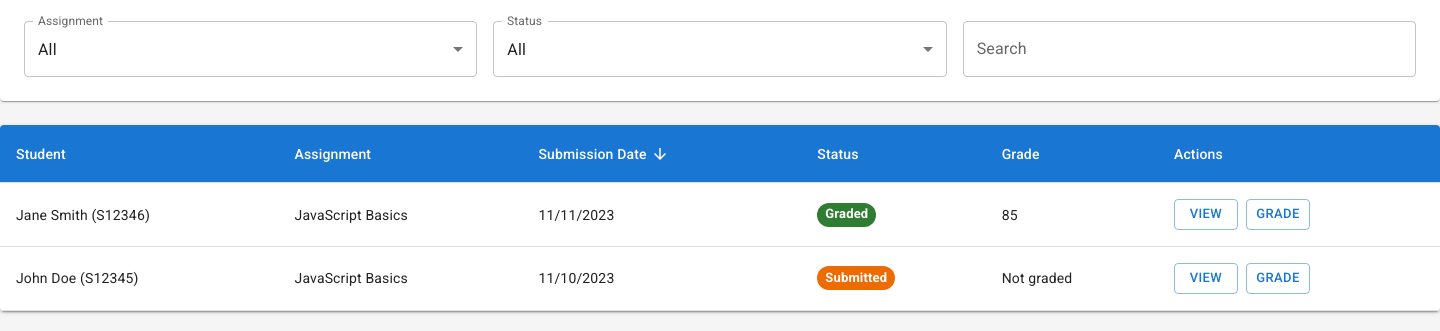
ReviewSubmissionsPage › filters submissions by status
This screenshot has width=1440, height=331.
Note: Open dropdown and select "Submitted"
Press the mouse on the dropdown named "Status" at (517, 49), box 507,40 -> 526,58
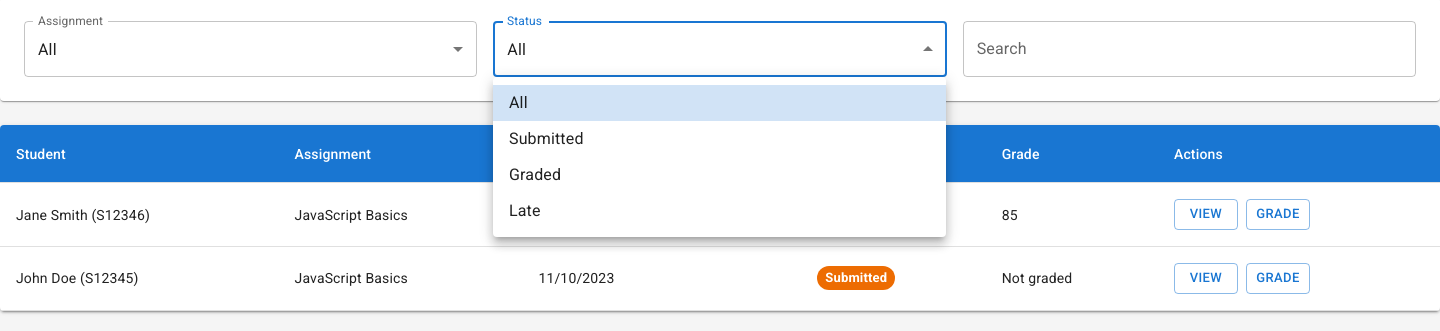
Click the option "Submitted".
click(546, 138)  # box 509,129 -> 584,148
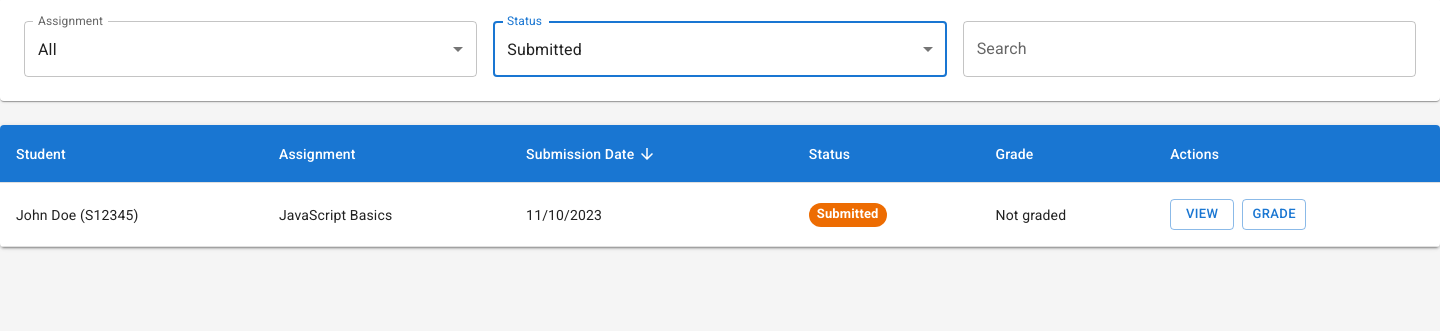
Expected: the text "John Doe (S12345)" is shown, 0,183 -> 263,247
Expected: the text "Jane Smith" is gone
